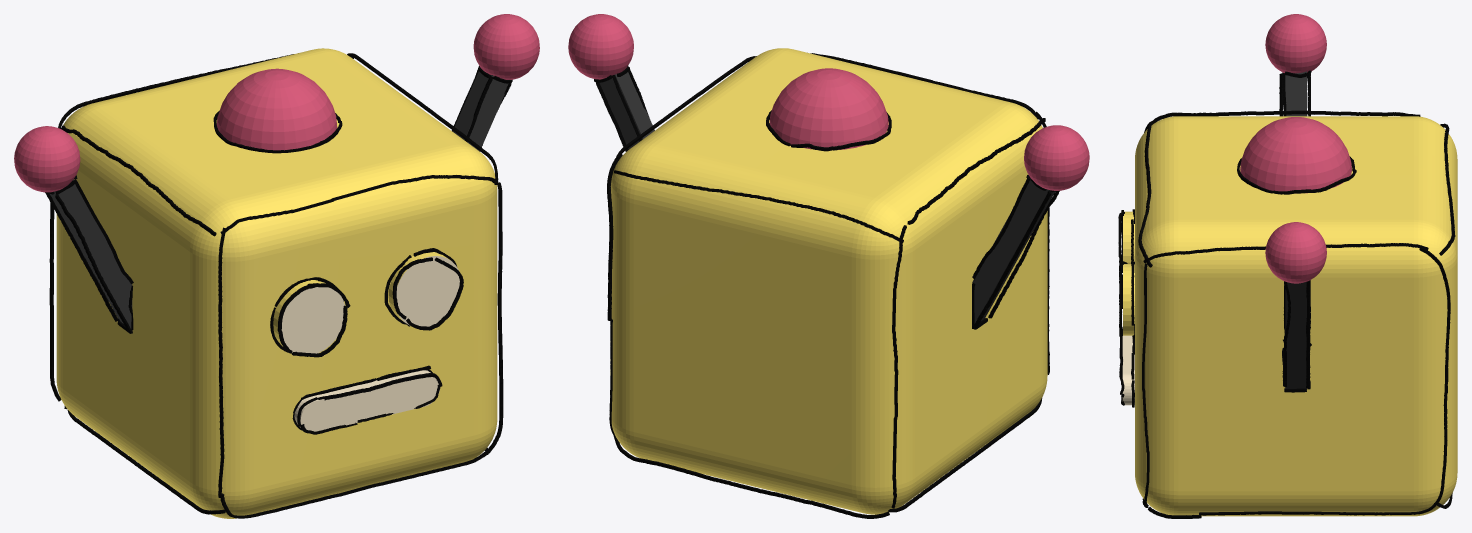
Rendered from robothead.fbx.
3 renders of one model, left to right at view 1: azimuth 30°, elevation 25°; view 2: azimuth 150°, elevation 25°; view 3: azimuth 270°, elevation 25°, orthographic. The views are drawn at different scales.
Parts seen in each view (by area): view 1: Cube, GP_Layer, Sphere, Cylinder, Sphere.001, Cube.001, Cylinder.001; view 2: Cube, GP_Layer, Sphere, Sphere.001, Cube.001; view 3: Cube, GP_Layer, Sphere, Sphere.001, Cube.001, Cylinder, Cylinder.001.
Part boxes in pixels (<box>): Cube: <box>56,48,497,518</box>; GP_Layer: <box>45,53,512,518</box>; Sphere: <box>216,68,337,150</box>; Cylinder: <box>273,252,459,353</box>; Sphere.001: <box>14,14,539,192</box>; Cube.001: <box>49,71,508,328</box>; Cylinder.001: <box>294,370,439,431</box>; Cube: <box>610,48,1047,514</box>; GP_Layer: <box>594,53,1059,518</box>; Sphere: <box>769,68,888,149</box>; Sphere.001: <box>568,14,1089,190</box>; Cube.001: <box>599,72,1055,323</box>; Cube: <box>1135,116,1457,516</box>; GP_Layer: <box>1118,70,1455,518</box>; Sphere: <box>1240,117,1352,193</box>; Sphere.001: <box>1265,14,1326,283</box>; Cube.001: <box>1285,71,1306,389</box>; Cylinder: <box>1123,211,1134,335</box>; Cylinder.001: <box>1122,323,1134,405</box>.
Bounding box in the file's own units: 343 × 234 × 210.
